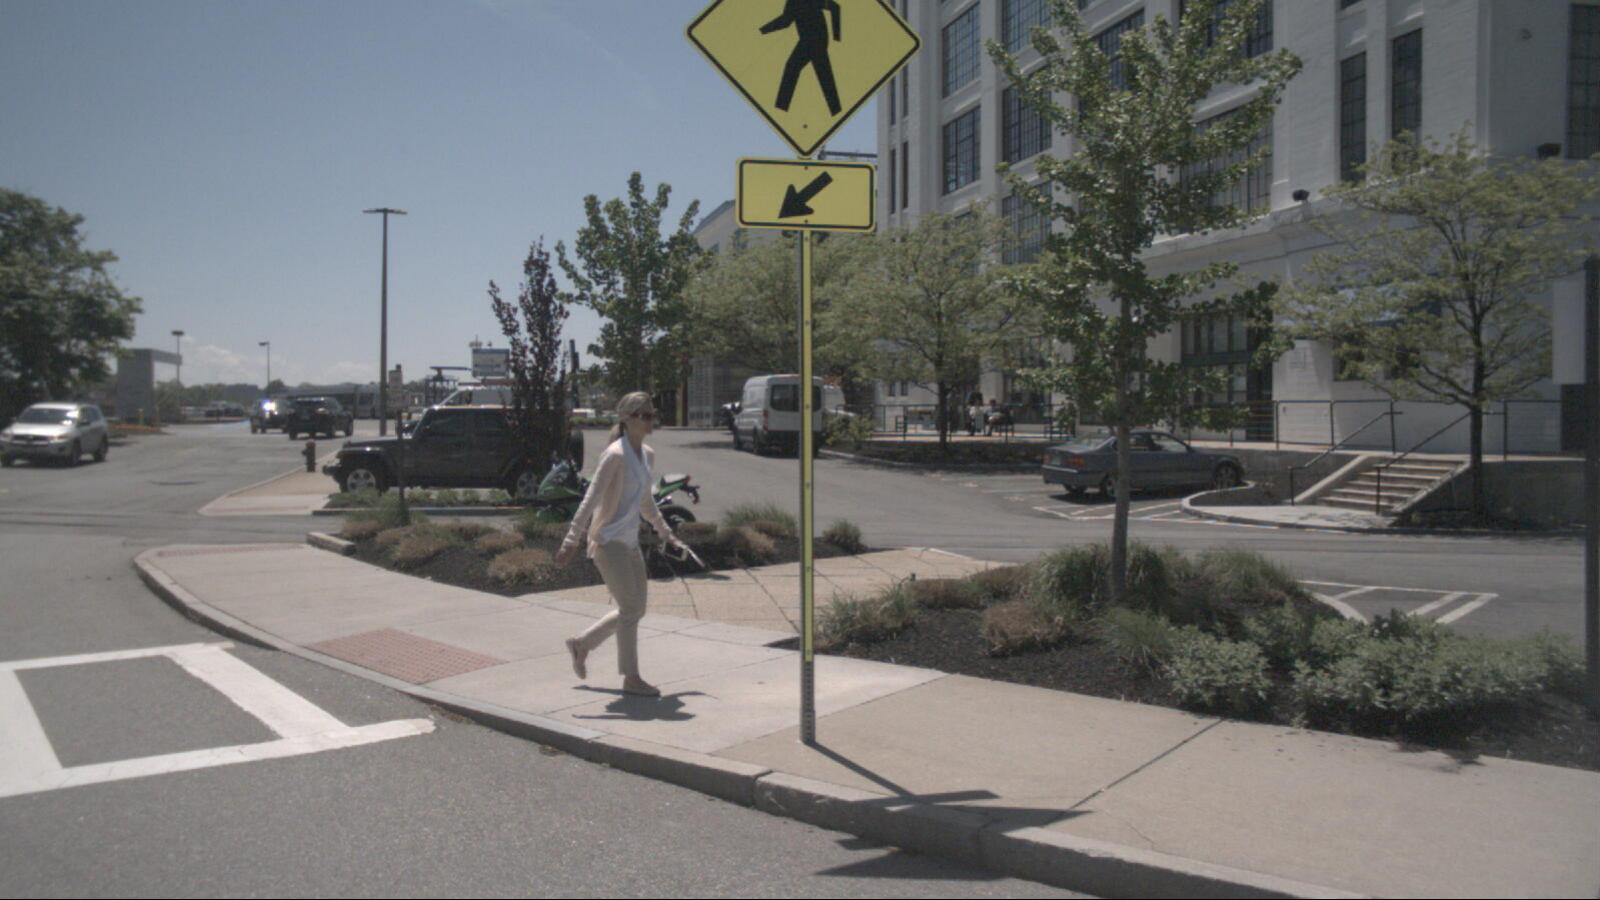human.pedestrian.adult-pedestrian.moving: (554, 392, 705, 698), (945, 388, 965, 434), (965, 385, 983, 433)
human.pedestrian.adult-pedestrian.sitting_lying_down: (968, 399, 985, 437), (986, 399, 1001, 437)
